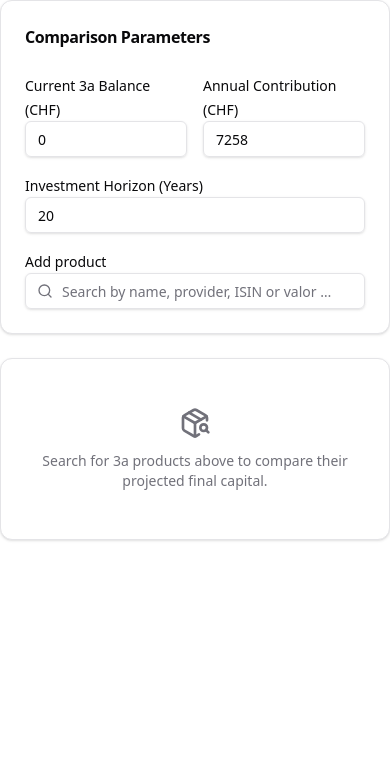
Test case: CompareTab › removes a product from the comparison
This screenshot has width=390, height=776.
Expected: the text "Search for 3a products above" is shown, [42,451,348,490]
Type "Alpha Fund" into the field named "Add product".
click(195, 291); type("Alpha Fund")  # box [25,273,365,309]
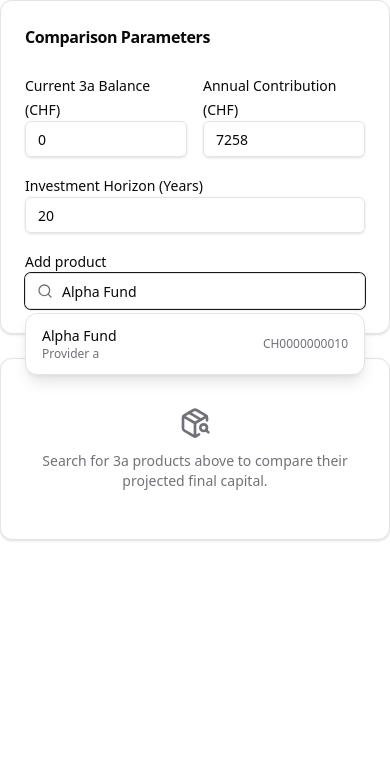
Click the button "Alpha Fund Provider a CH0000000010".
click(79, 336)  # box [30,318,360,370]
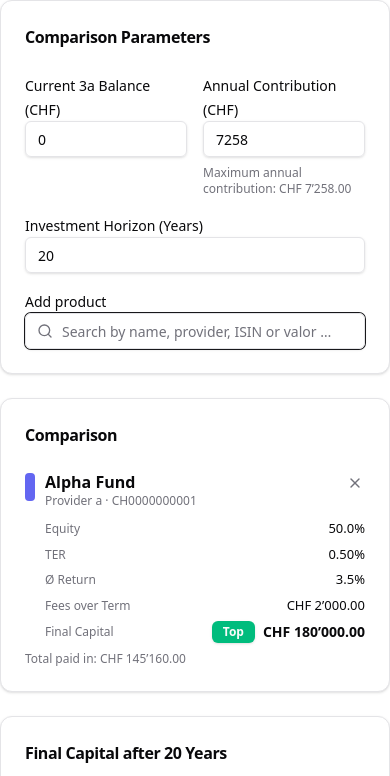
Type "Beta Fund" into the field named "Add product".
click(195, 331); type("Beta Fund")  # box [25,313,365,349]
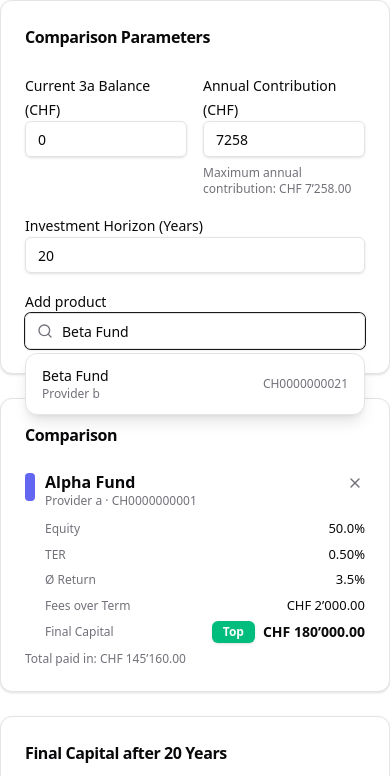
Click the button "Beta Fund Provider b CH0000000021".
click(75, 376)  # box [30,358,360,410]
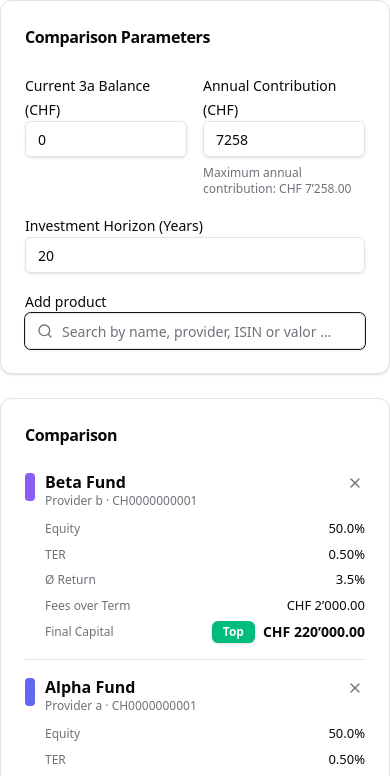
Click the button named "Remove Alpha Fund".
click(355, 688)  # box [337,670,373,706]
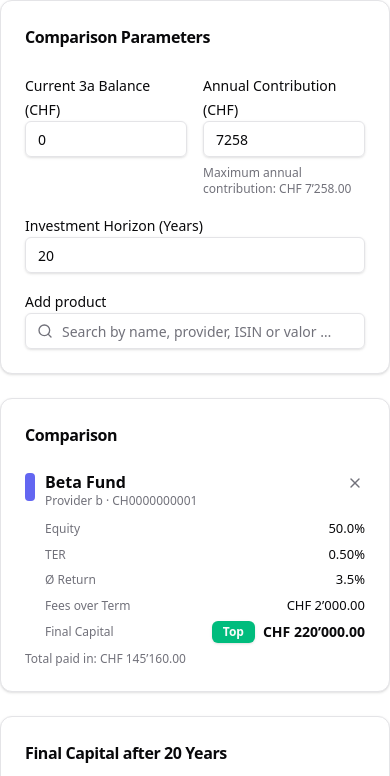
Result: the text "Beta Fund" is shown at [45,471,126,493]
Result: the text "Alpha Fund" is gone
